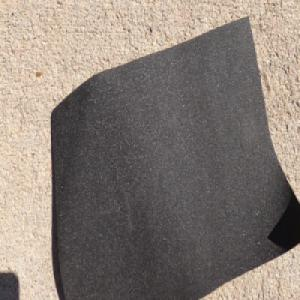PaintChip: (50, 12, 300, 300)
